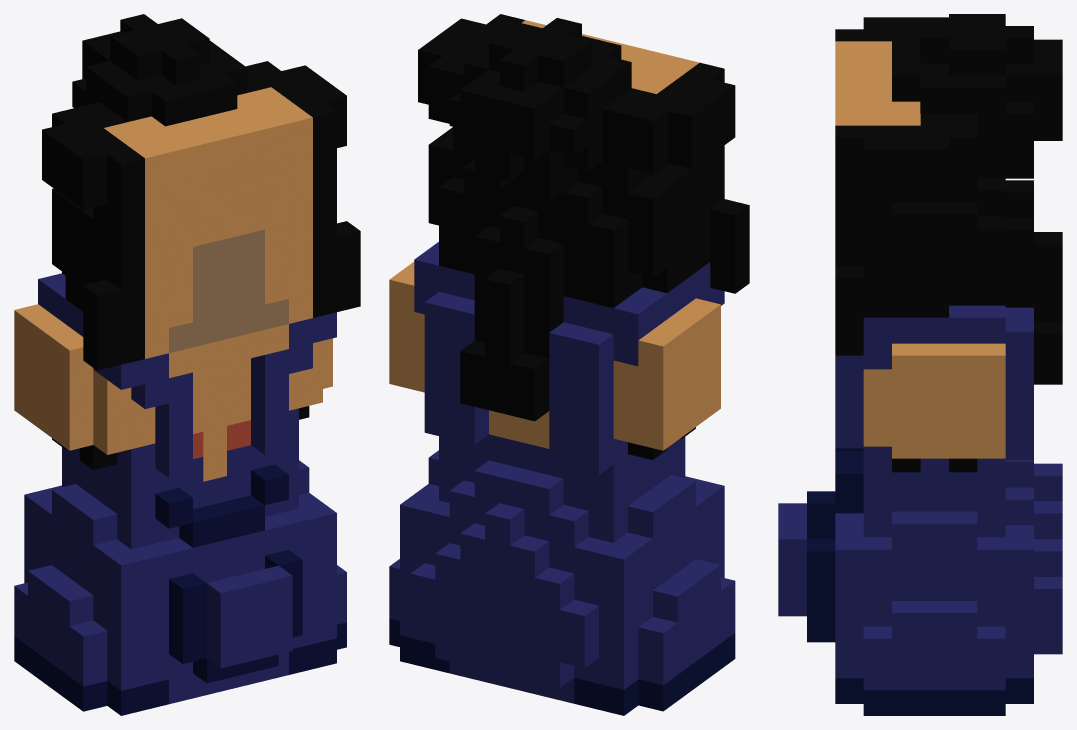
The model's file is Mechanic-1.obj.
3 renders of one model, left to right at view 1: azimuth 30°, elevation 25°; view 2: azimuth 150°, elevation 25°; view 3: azimuth 270°, elevation 25°, orthographic. The views are drawn at different scales.
Size of the model in its own units: 1.1 by 2.4 by 1.
Materials: 1 (1 with a texture image).
